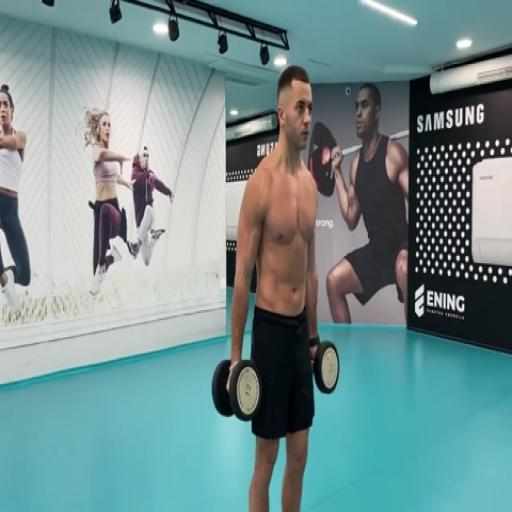exercise: (224, 64, 329, 511), (324, 81, 411, 327), (80, 105, 139, 299), (0, 81, 34, 321)
